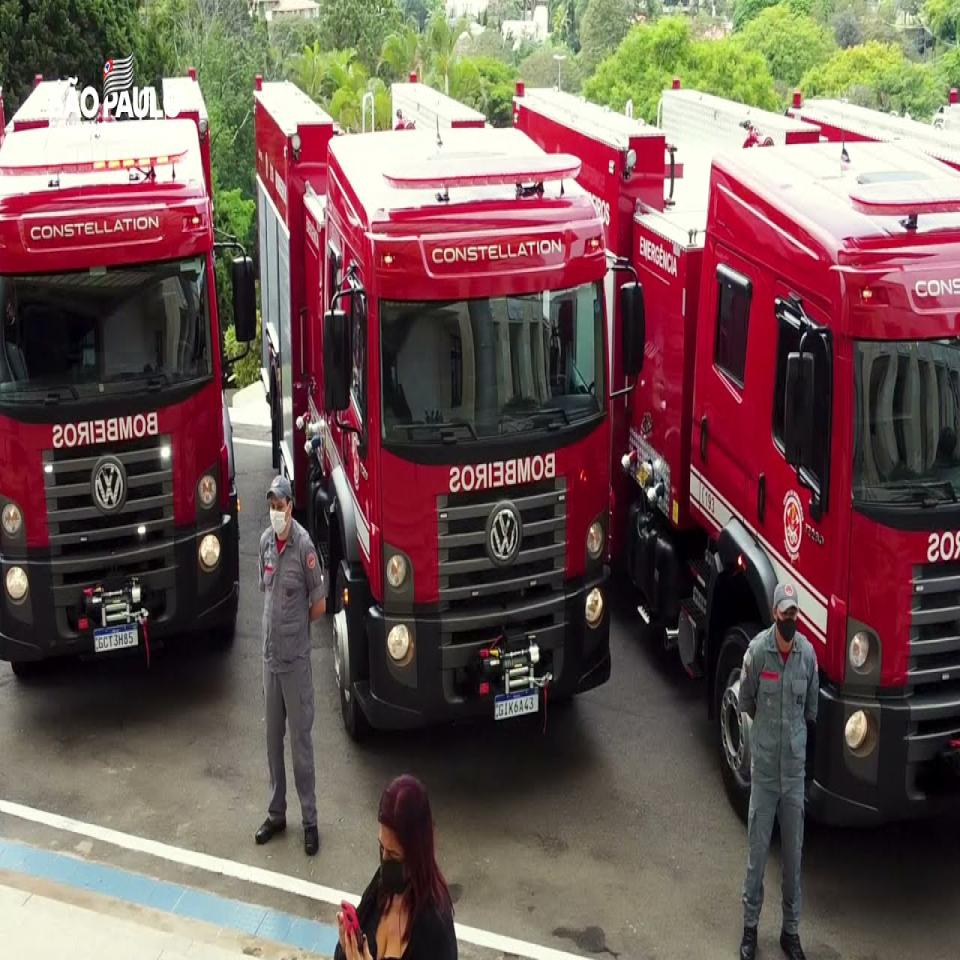viatura: (511, 78, 960, 828), (253, 72, 646, 741), (1, 74, 257, 678)
